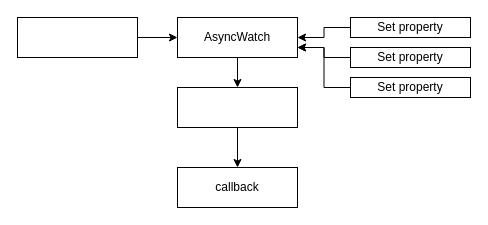
Some shapes in this 488 by 225 pixel diagram are drawn without their labels. The shapes that lost their labels are listed below. From the top down, each one's centre as x and y in pixels, then its label:
(77,37): Object
(237,107): AsyncTransaction
